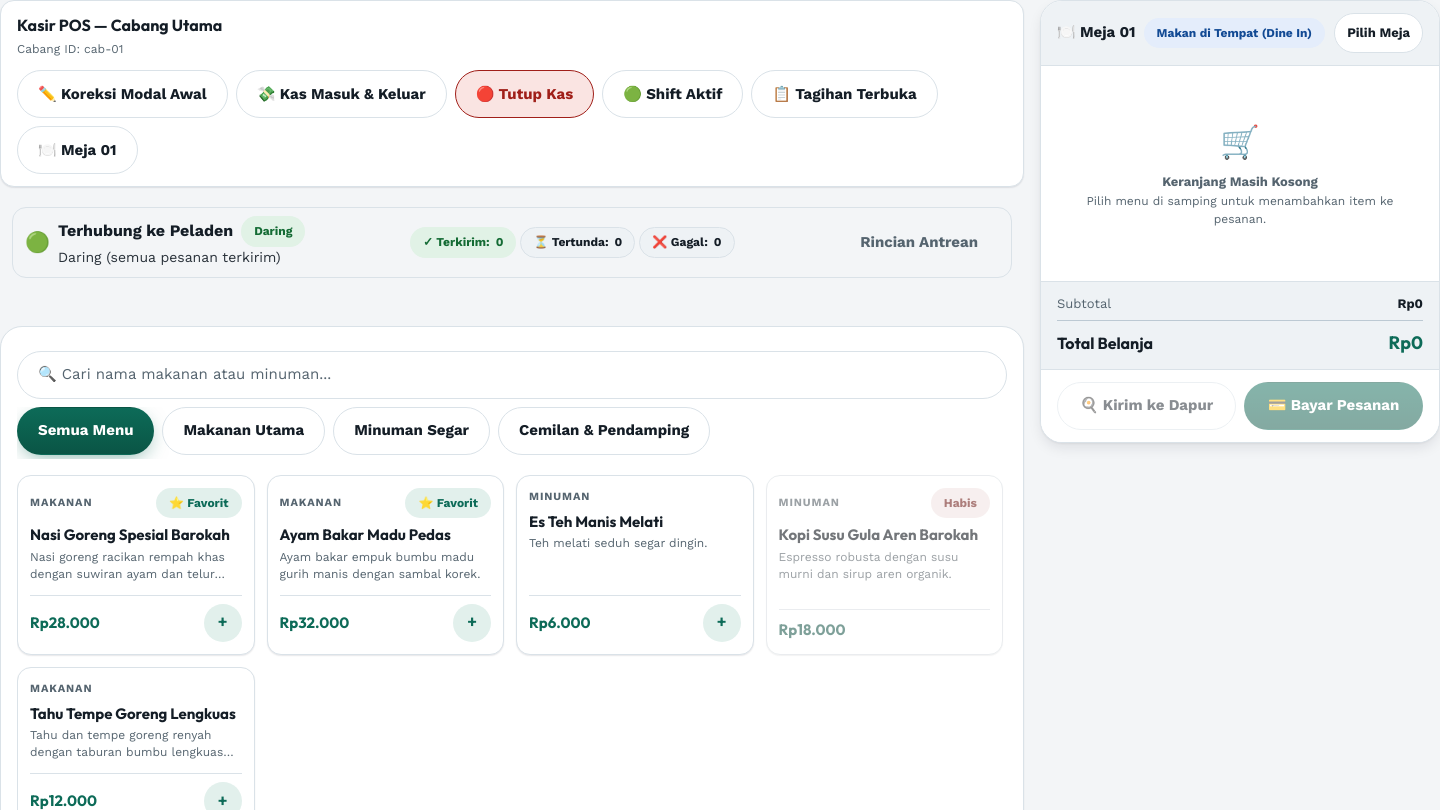
Scenario: LayarKasir POS (T3-01 s/d T3-16) › menampilkan tombol Tutup Kas saat ada shift aktif dan membuka dialog rekonsiliasi (T7-02)
Click the button "🔴 Tutup Kas".
click(524, 94)  # box [455,70,594,118]
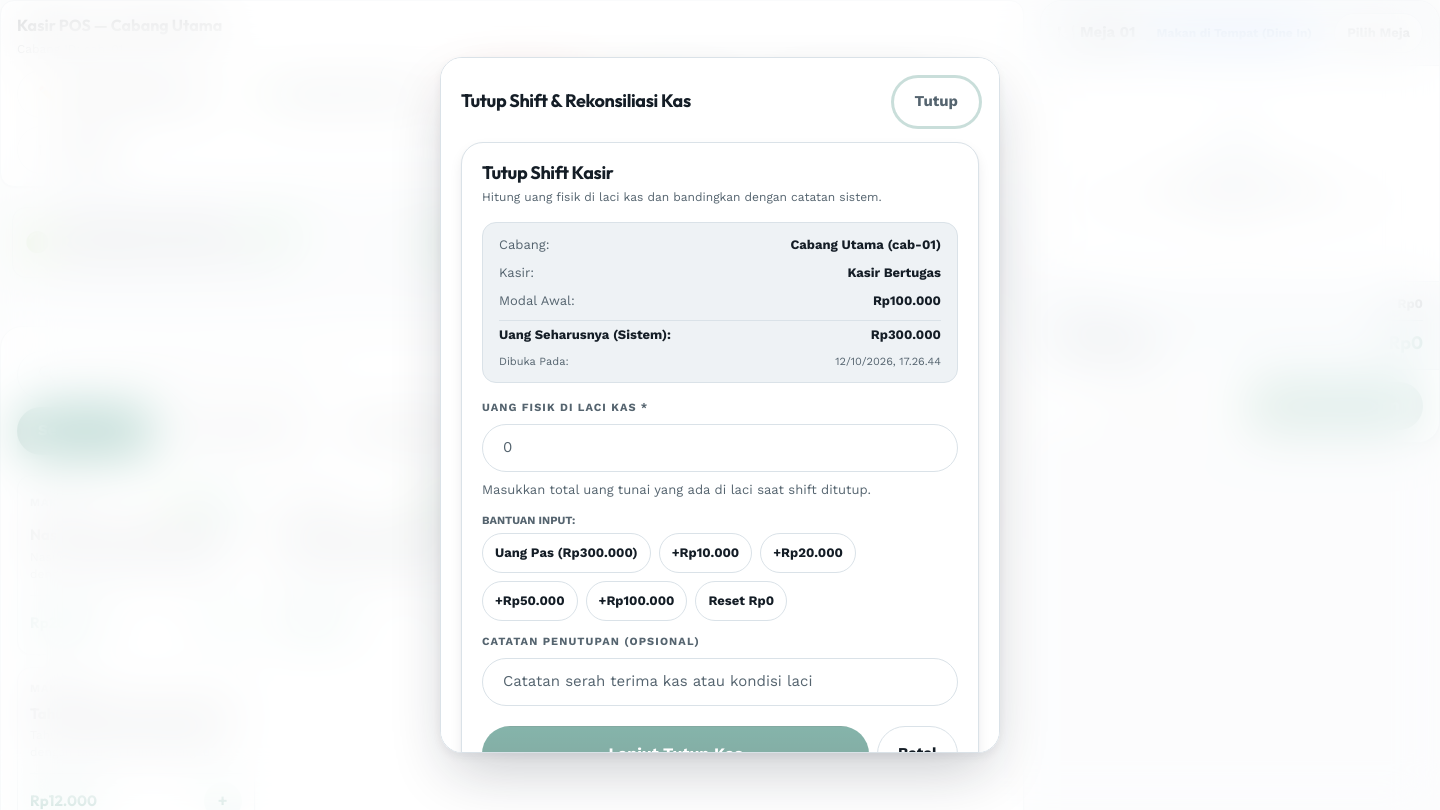
Expected: the heading "Tutup Shift Kasir" is shown, [482,161,613,184]
Expected: the text "Rp100.000" is shown, [873,292,941,312]
Expected: the text "Rp300.000" is shown, [871,325,941,345]
